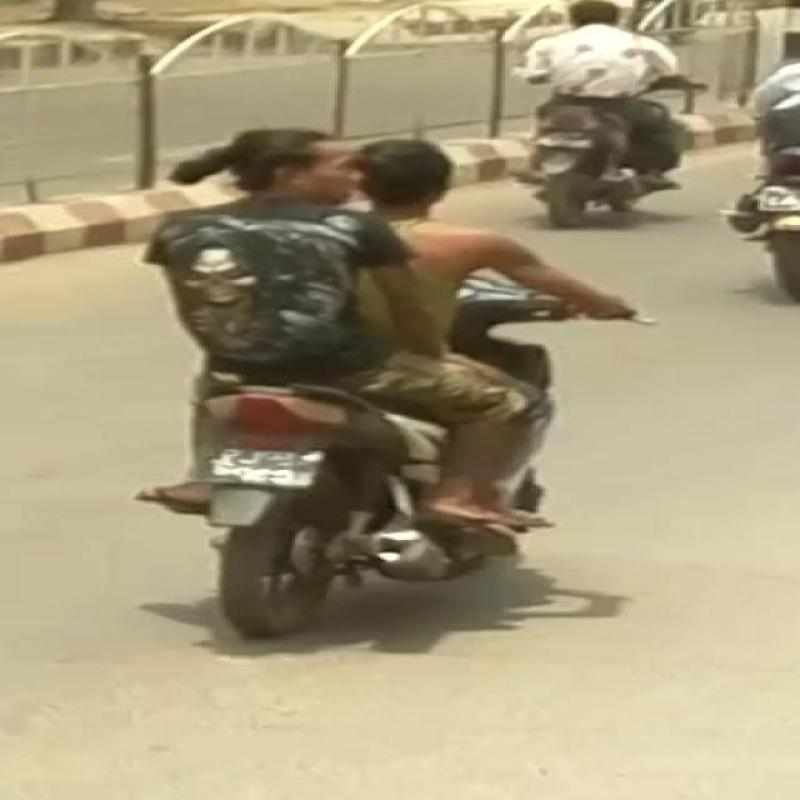nohelmet: (371, 123, 524, 229), (179, 120, 345, 217)
